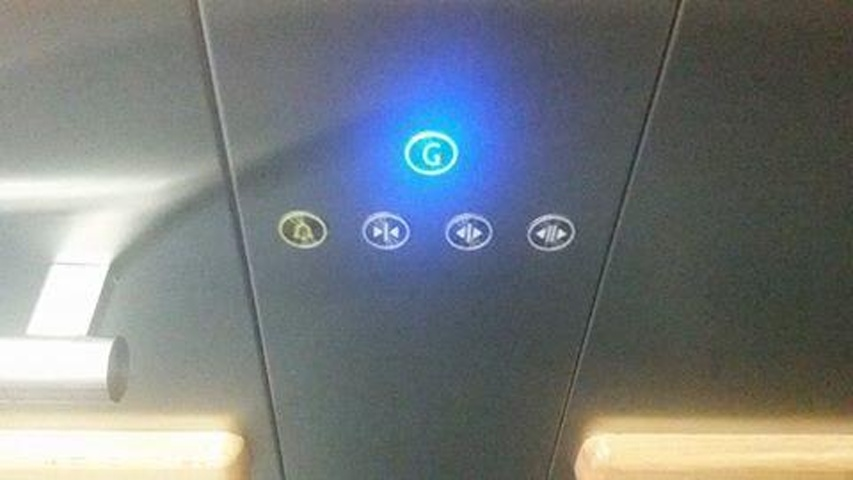G: (400, 127, 462, 185)
alarm: (273, 208, 329, 254)
close: (355, 208, 414, 253)
open: (439, 212, 496, 253), (522, 214, 579, 255)
